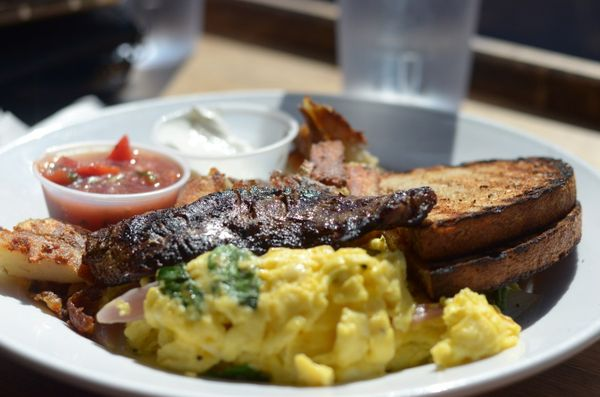curry: (190, 243, 262, 309)
pizza: (337, 1, 478, 113)
soup: (360, 158, 583, 299)
sushi: (32, 137, 190, 229), (150, 106, 300, 181)
